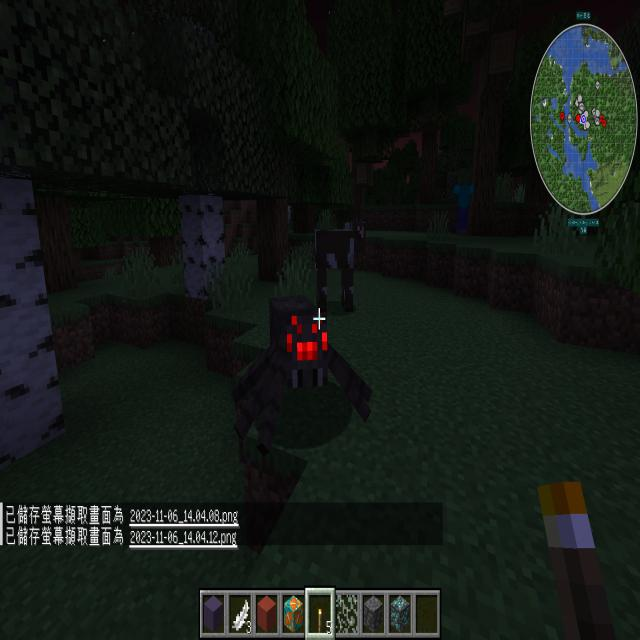Spider: (233, 288, 384, 461)
Zombie: (450, 162, 479, 243)
cow: (309, 205, 370, 327)
